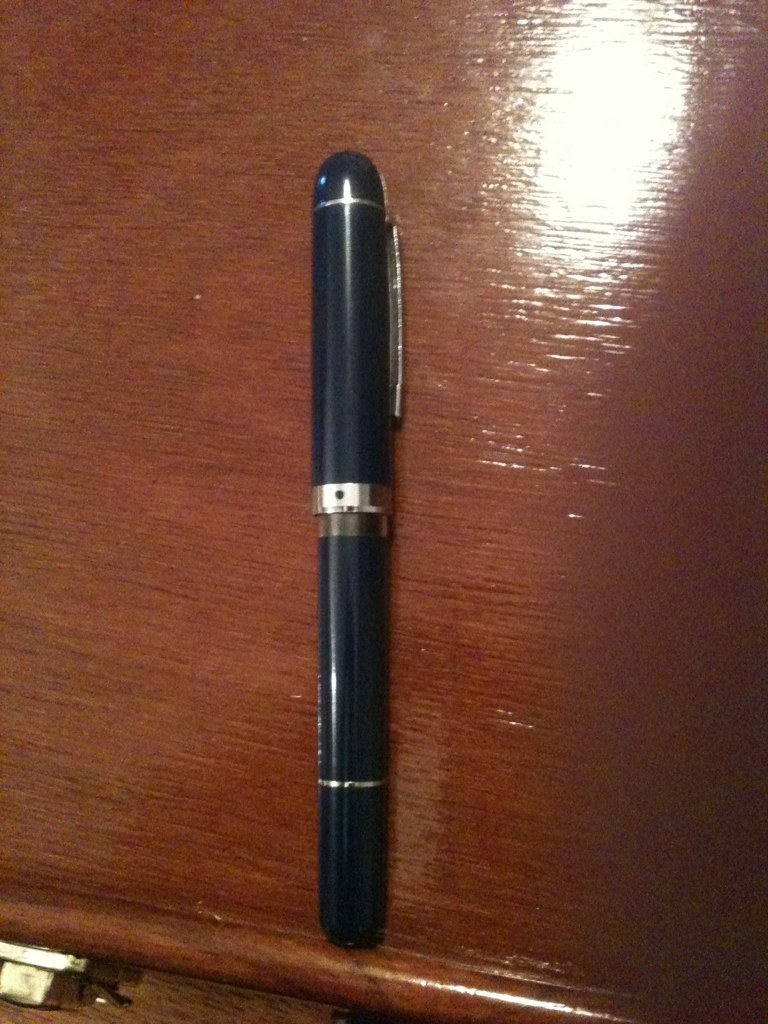Pen: (310, 151, 403, 954)
